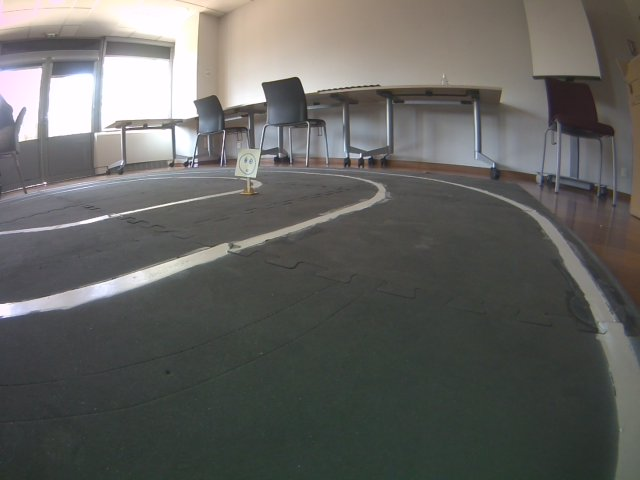Smiley: (233, 147, 261, 179)
